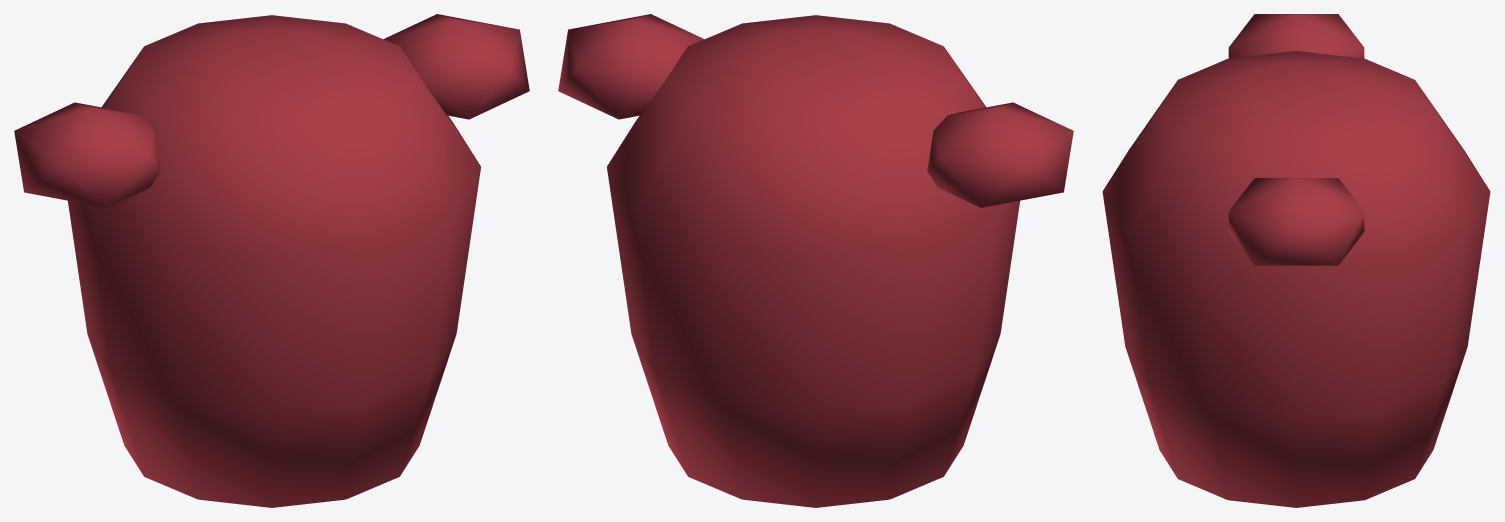
File: sanguite_chainmail.glb
The picture shows the model from 3 angles, left to right: view 1: azimuth 30°, elevation 25°; view 2: azimuth 150°, elevation 25°; view 3: azimuth 270°, elevation 25°; orthographic projection. The views are drawn at different scales.
Visible parts, largest first — view 1: sanguite_chainmail_v0; view 2: sanguite_chainmail_v0; view 3: sanguite_chainmail_v0.
Part boxes in pixels (x1,y1,x2,y2): sanguite_chainmail_v0: (14,14,529,507); sanguite_chainmail_v0: (558,14,1073,507); sanguite_chainmail_v0: (1102,14,1490,507).
Bounding box in the file's own units: 0.4652 × 0.35 × 0.34.
